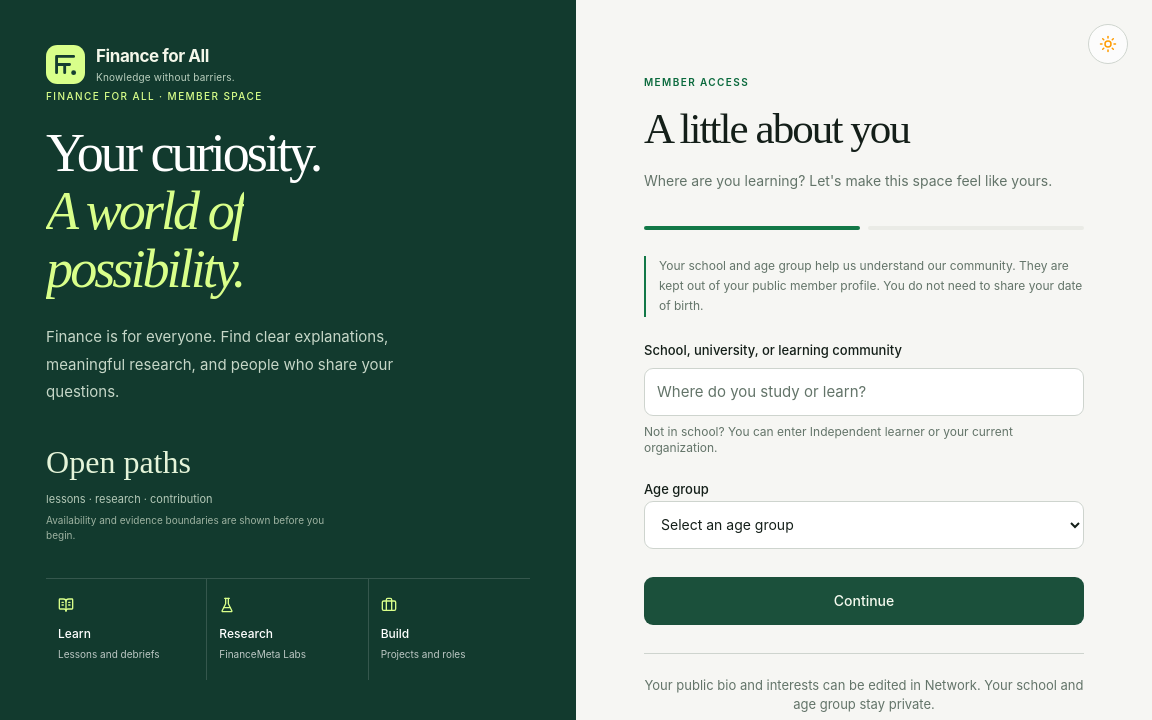
it: two-stage member onboarding › does not mark setup complete if the public profile fails to save
In the field labelled "School, university, or learning community": (864, 392) [644,368,1084,416], type " Example School "
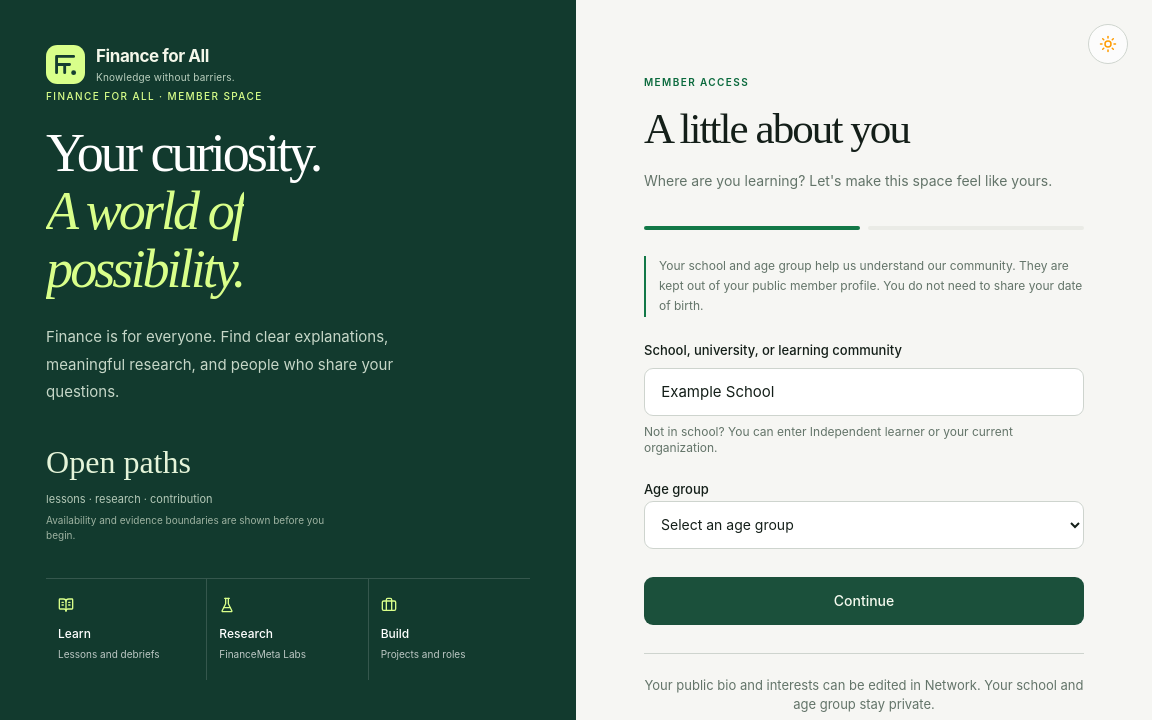
Select "Prefer not to say" in the dropdown labelled "Age group": (864, 525) [644,501,1084,549]
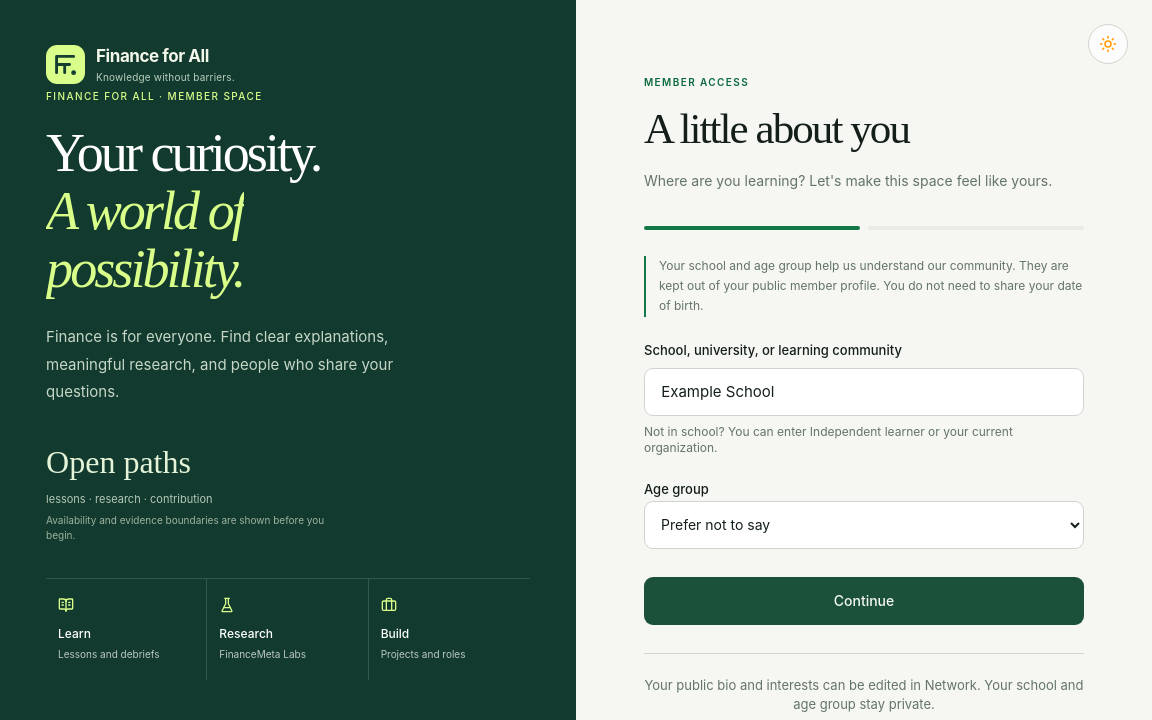
Click the button "Continue": (864, 601) [644,577,1084,625]
(page scrolled)
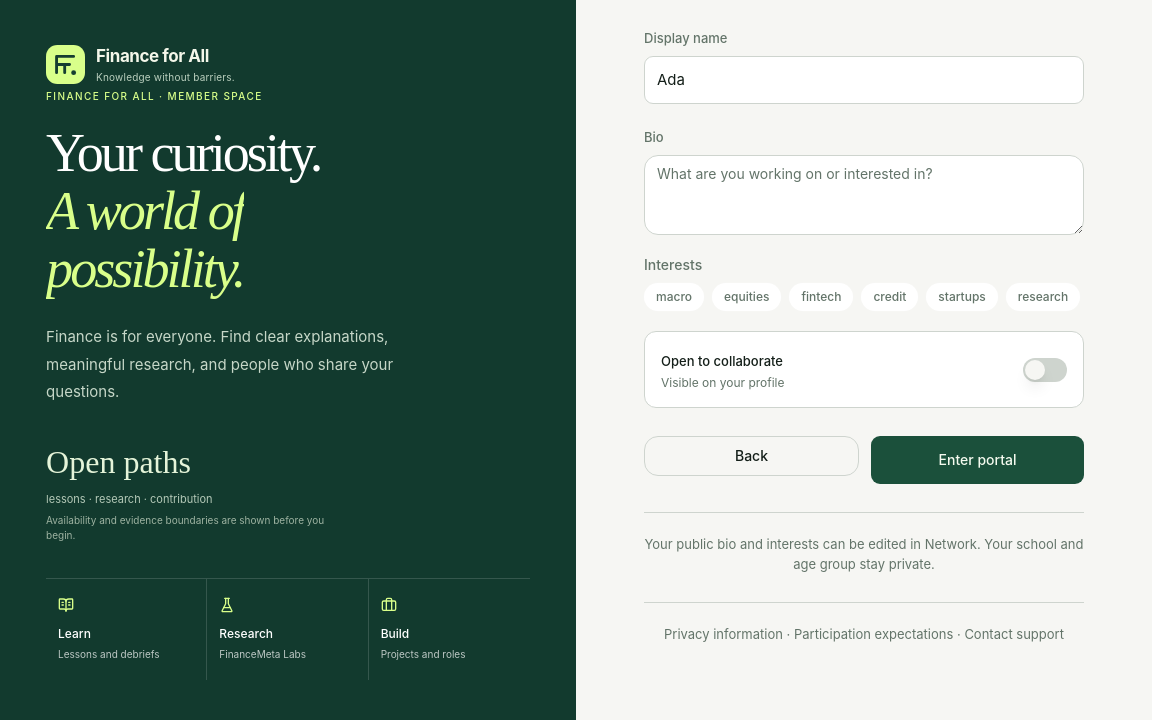
Click the button "Enter portal": (978, 460) [871,436,1084,484]
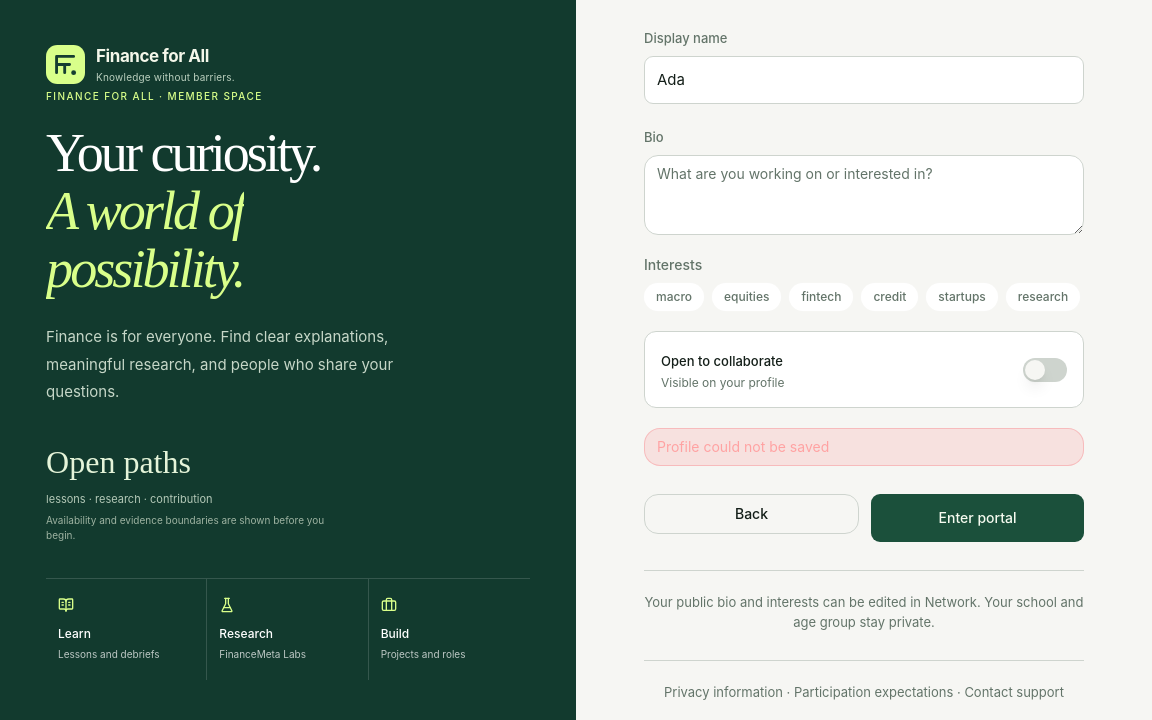
Expected: the message reads "Profile could not be saved", [657,438,829,455]
